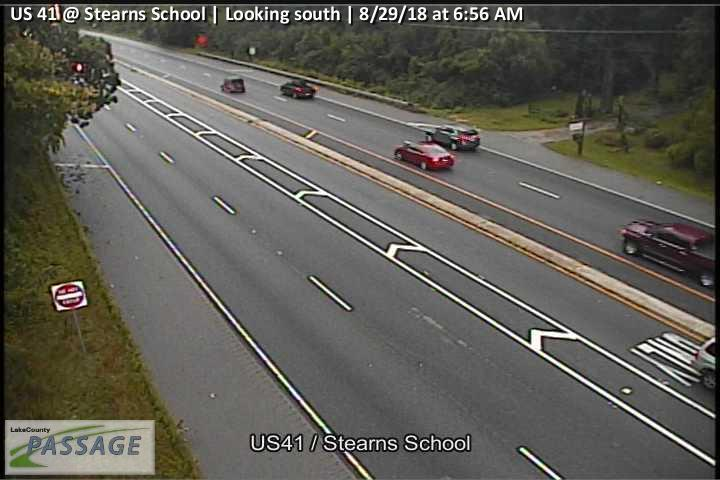SUV: (422, 123, 481, 152)
Sedan: (392, 138, 455, 172), (278, 79, 315, 100)
Truck: (618, 216, 715, 287), (219, 76, 246, 93)
